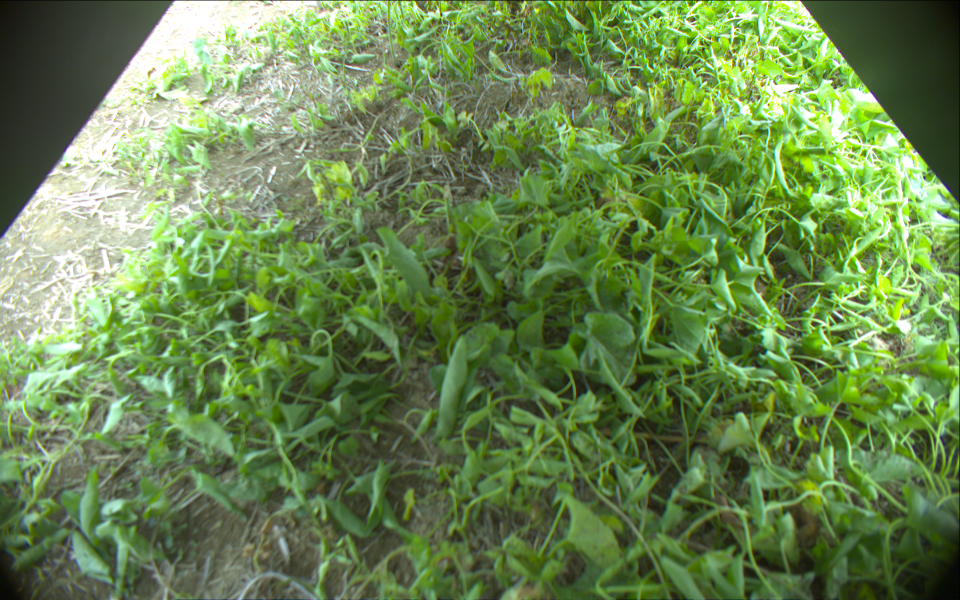aspa: (386, 1, 393, 63)
